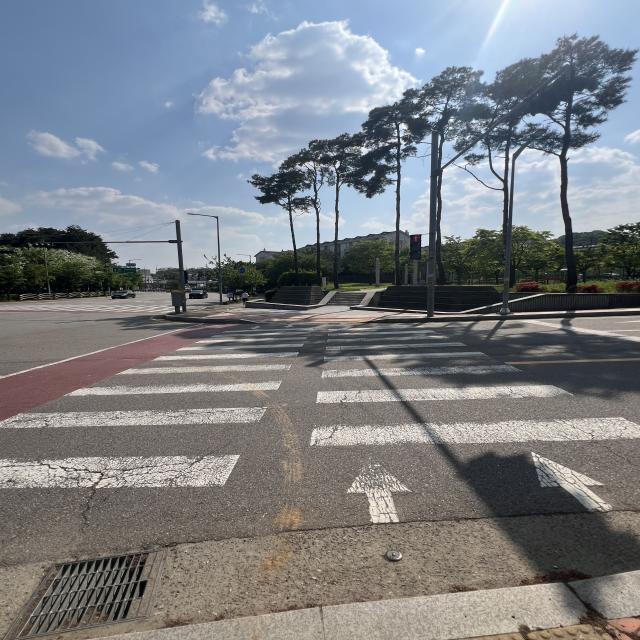crosswalk: (0, 302, 640, 538)
red-crossing: (410, 235, 424, 268)
